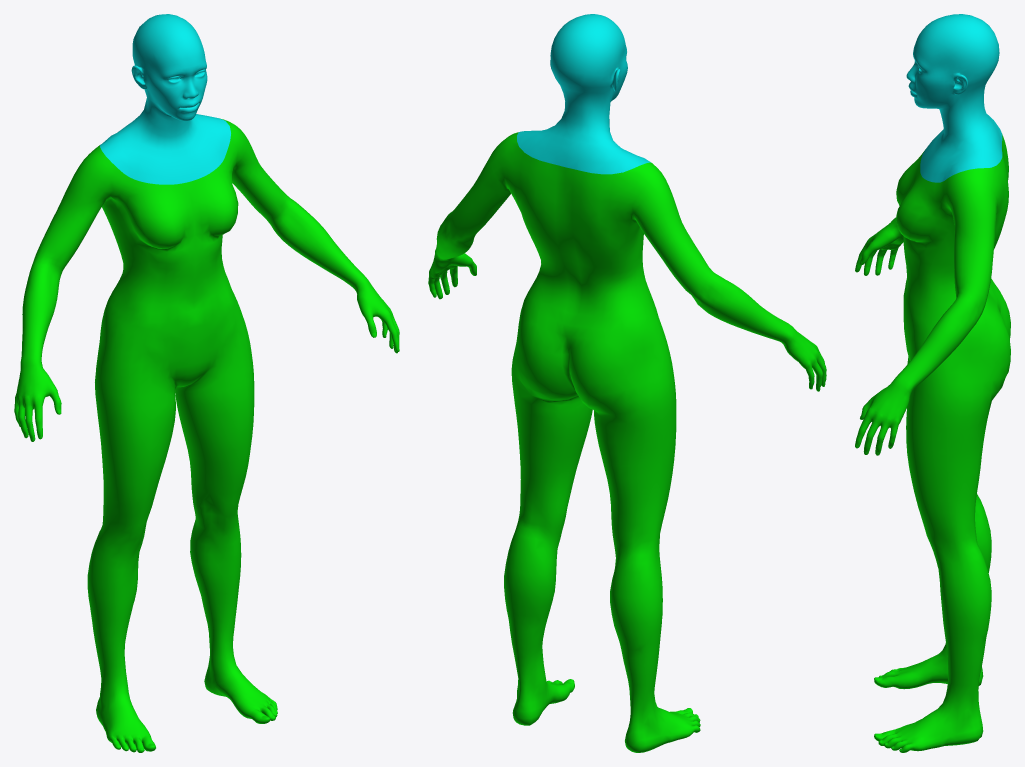
The model's file is spectra_full_body_only.fbx.
3 views of the same model, side by side, from view 1: azimuth 30°, elevation 25°; view 2: azimuth 150°, elevation 25°; view 3: azimuth 270°, elevation 25° (orthographic). The views are drawn at different scales.
Parts seen in each view (by area): view 1: spectra_body_low, spectra_head_low; view 2: spectra_body_low, spectra_head_low; view 3: spectra_body_low, spectra_head_low.
Boxes of the visible parts, x1=… form: spectra_body_low: x1=14, y1=118, x2=399, y2=752; spectra_head_low: x1=100, y1=14, x2=230, y2=184; spectra_body_low: x1=428, y1=132, x2=826, y2=752; spectra_head_low: x1=517, y1=14, x2=650, y2=174; spectra_body_low: x1=855, y1=134, x2=1010, y2=752; spectra_head_low: x1=906, y1=14, x2=1002, y2=182.
Size of the model in its own units: 95.78 by 168 by 34.04.
